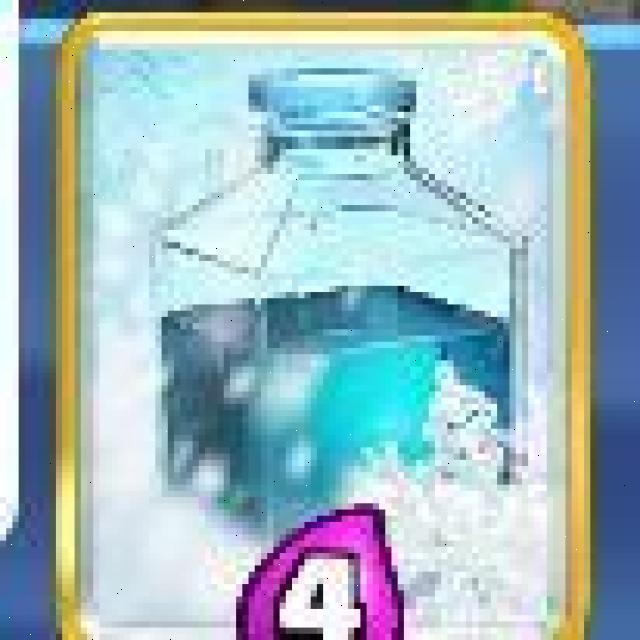Freeze: (55, 14, 593, 639)
